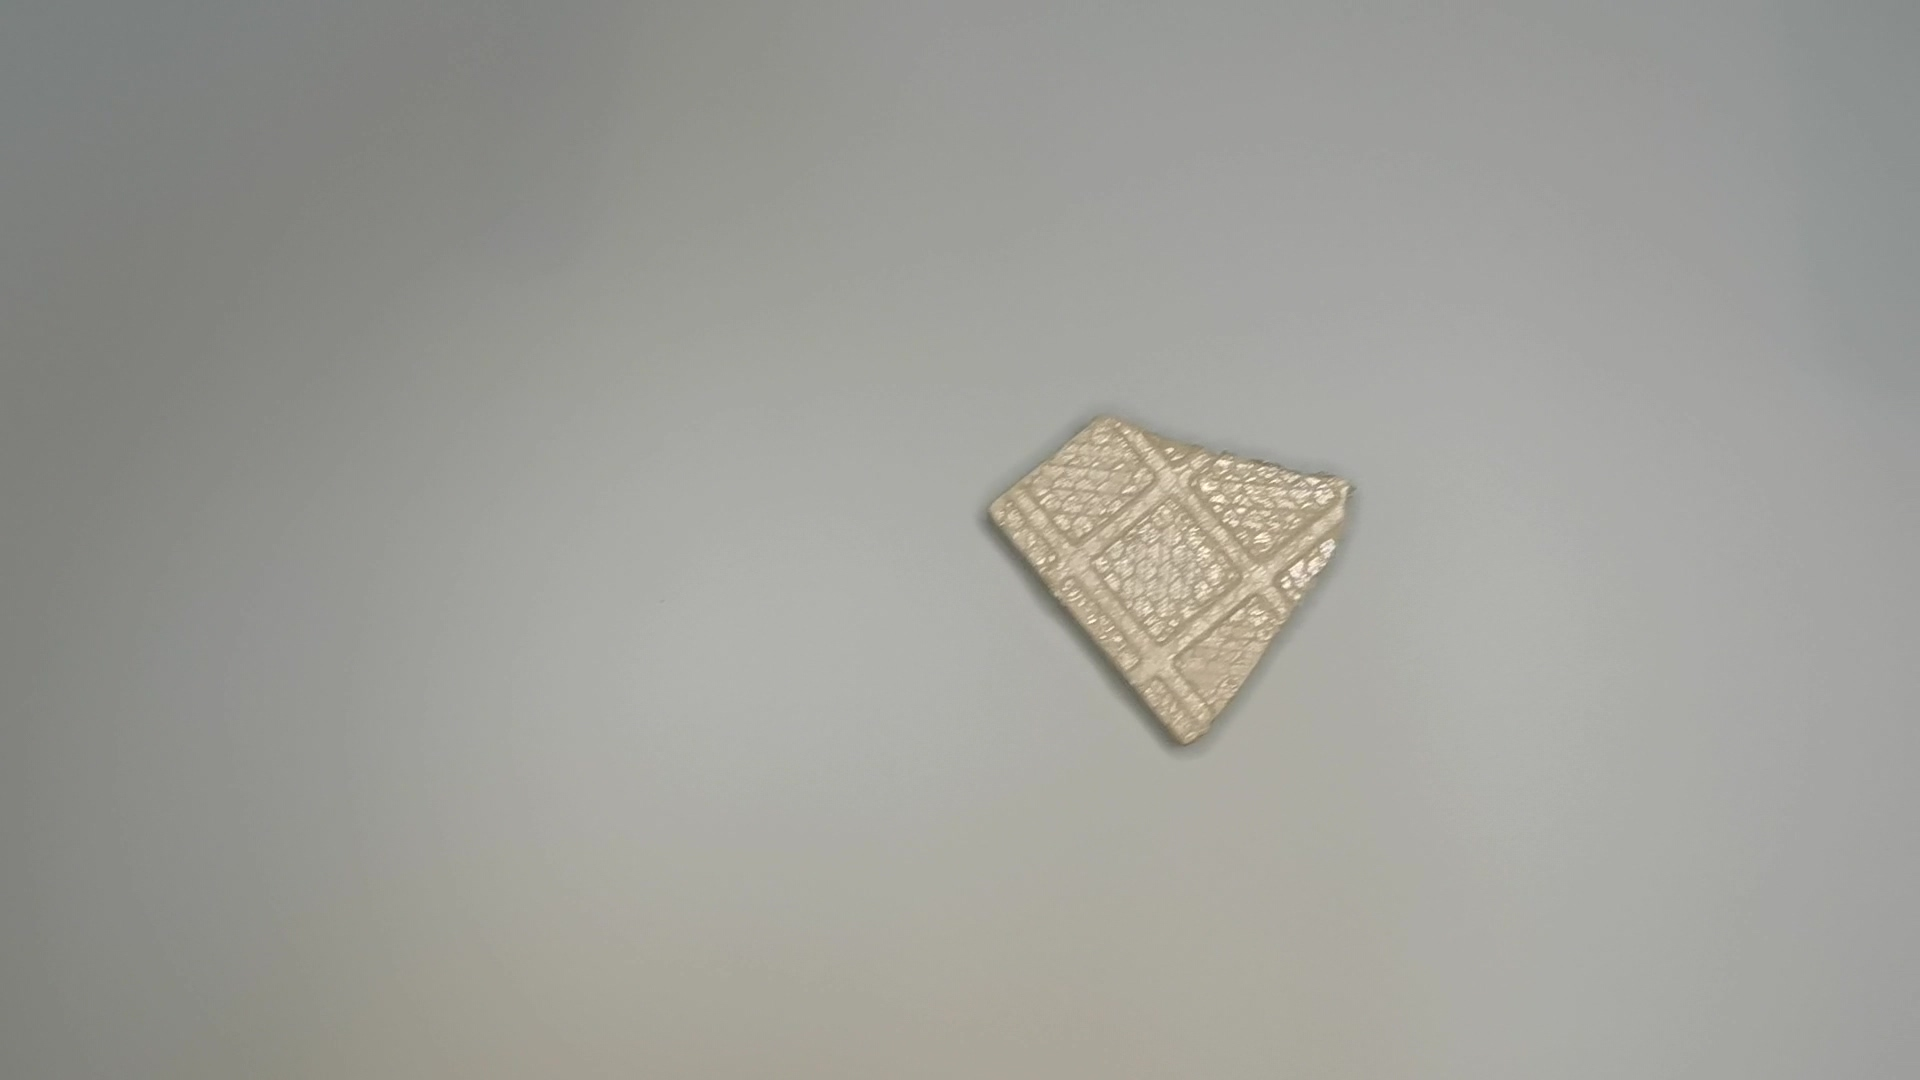ceramic: (981, 406, 1373, 767)
